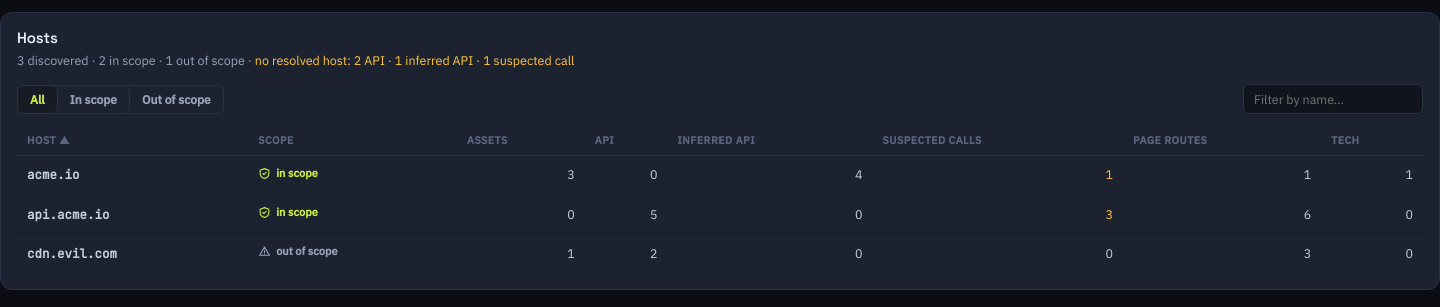
Test case: HostsPage › filters by scope
Click the button "Out of scope" at (176, 99), box left=130, top=86, right=223, bottom=113
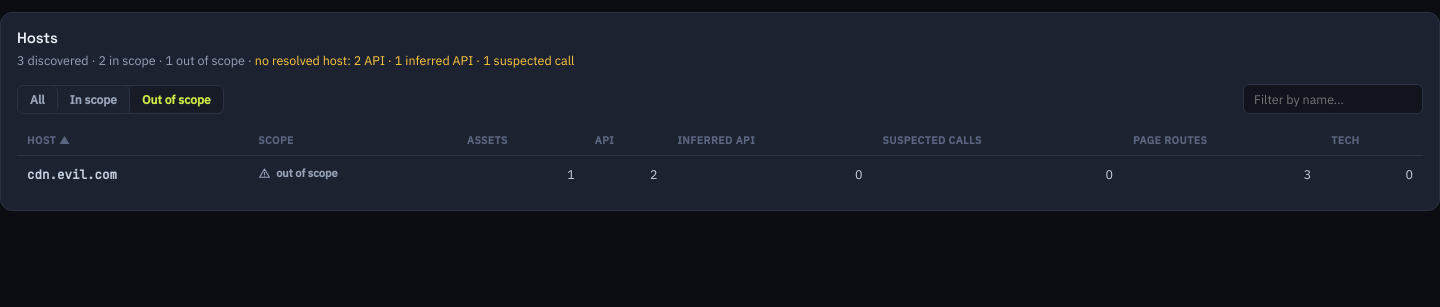
Expected: the text "cdn.evil.com" is shown, left=27, top=166, right=117, bottom=183
Result: the text "acme.io" is gone
Result: the text "api.acme.io" is gone
